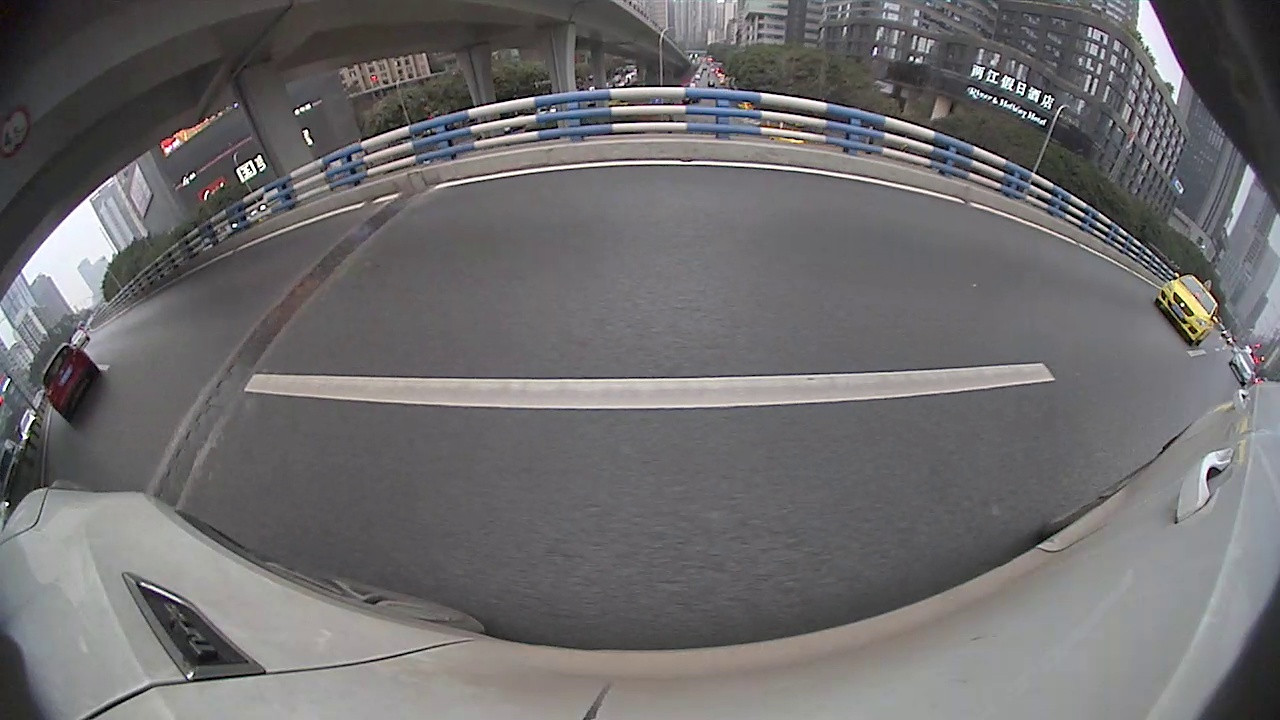car: (1152, 272, 1220, 351), (38, 341, 101, 423)
